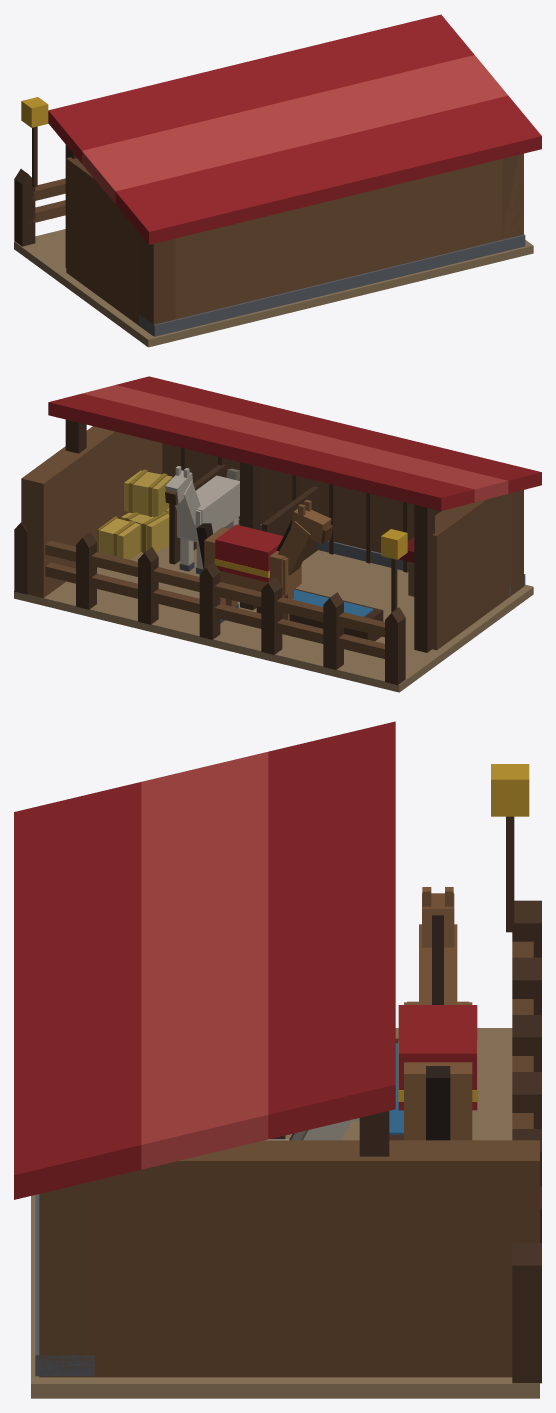
Rendered from Decor_KnightCastle_Stables.fbx.
3 renders of one model, top to bottom at view 1: azimuth 30°, elevation 25°; view 2: azimuth 150°, elevation 25°; view 3: azimuth 270°, elevation 25°, orthographic. The views are drawn at different scales.
Parts seen in each view (by area): view 1: Stables_Body; view 2: Stables_Body; view 3: Stables_Body.
Part boxes in pixels (x1,y1,x2,y2): Stables_Body: [14, 14, 541, 347]; Stables_Body: [14, 376, 541, 692]; Stables_Body: [14, 721, 541, 1398].
Bounding box in the file's own units: 21 × 8.56 × 12.9.
